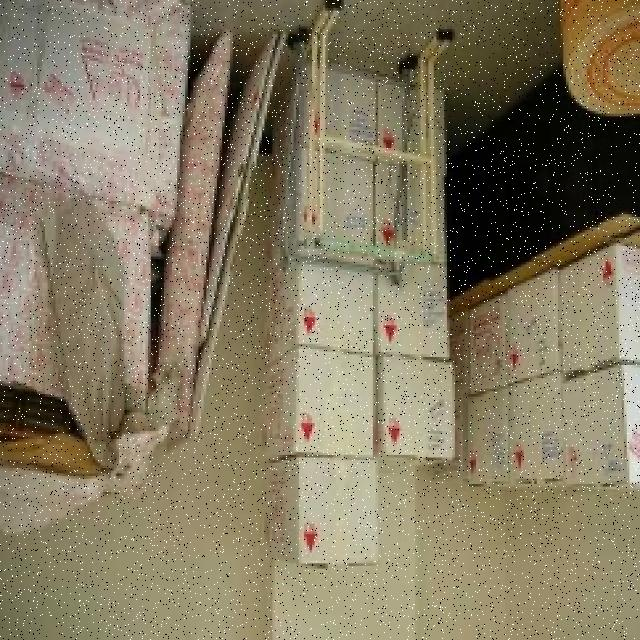box: (257, 346, 378, 463), (266, 459, 378, 573), (254, 270, 382, 366), (280, 151, 382, 267), (555, 244, 640, 376), (265, 65, 378, 160), (563, 365, 640, 492), (378, 356, 458, 478), (379, 260, 456, 359), (510, 386, 580, 494), (512, 267, 576, 382), (462, 382, 522, 502), (380, 161, 450, 259), (378, 83, 456, 160), (460, 291, 510, 399)
